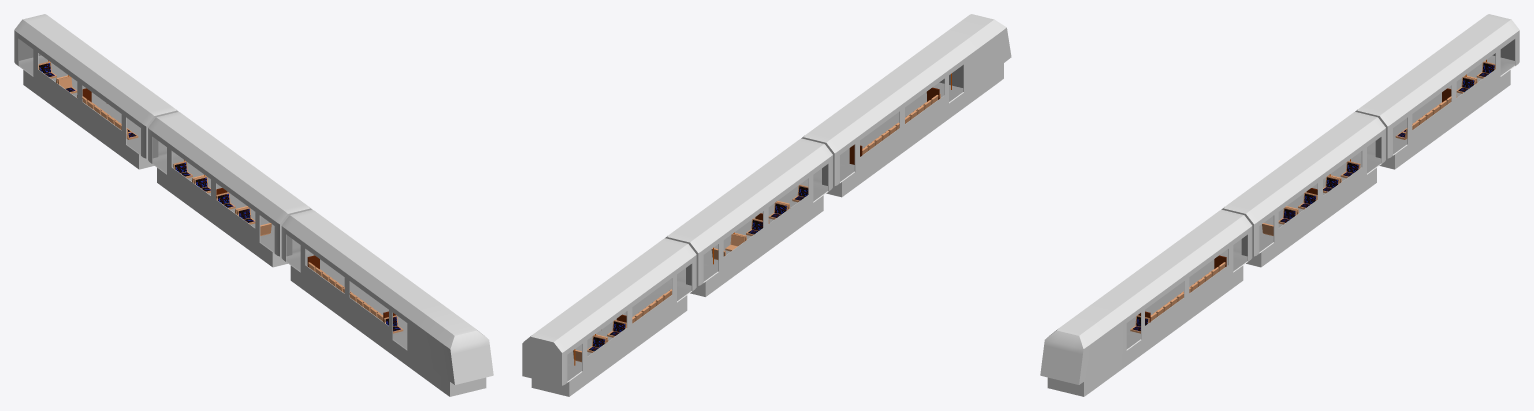
The model's file is TrainMesh7.fbx.
3 views of the same model, side by side, from view 1: azimuth 30°, elevation 25°; view 2: azimuth 150°, elevation 25°; view 3: azimuth 330°, elevation 25° (orthographic).
Visible parts, largest first — view 1: TrainBody_01, TrainProps_01; view 2: TrainBody_01, TrainProps_01; view 3: TrainBody_01, TrainProps_01.
Boxes of the visible parts, <box> form: TrainBody_01: <box>14,14,493,396</box>; TrainProps_01: <box>38,60,403,333</box>; TrainBody_01: <box>522,14,1011,396</box>; TrainProps_01: <box>573,73,951,365</box>; TrainBody_01: <box>1040,14,1519,396</box>; TrainProps_01: <box>1130,59,1495,333</box>.
Size of the model in its own units: 500 by 700 by 9600.
